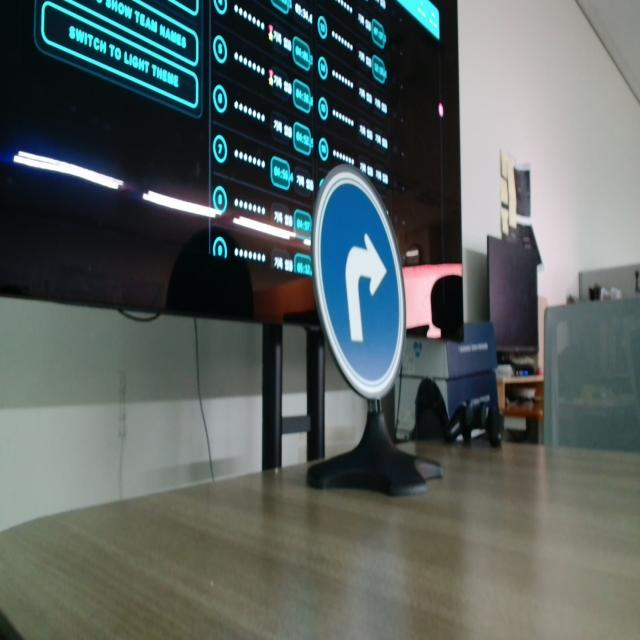right_dierection: (302, 156, 418, 418)
